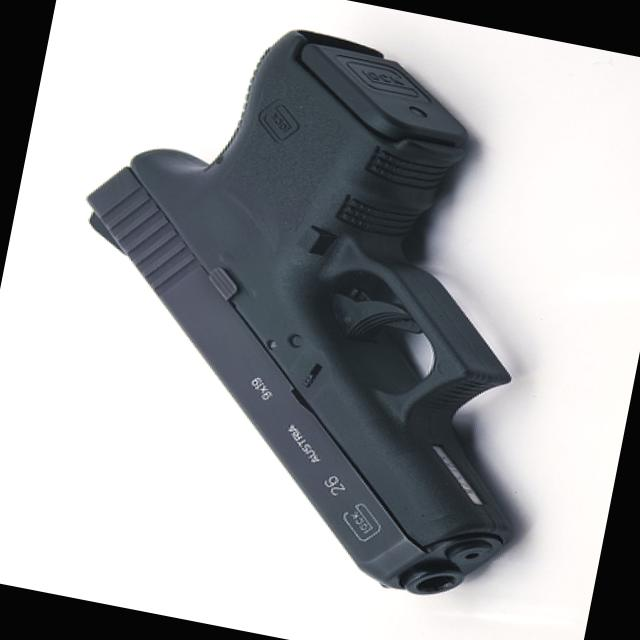handgun: (18, 0, 606, 631)
